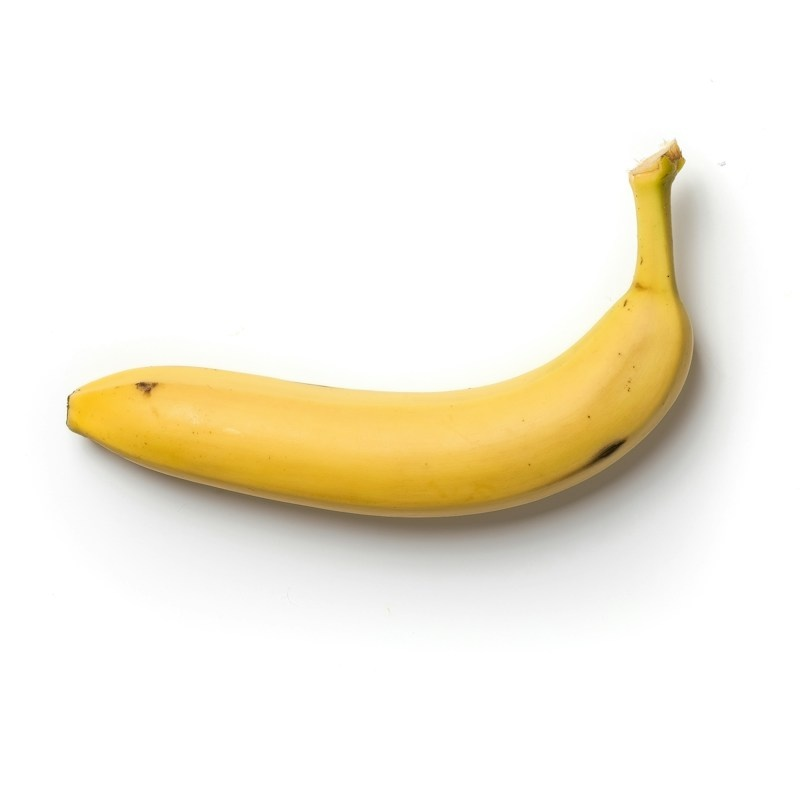banana peel: (34, 137, 694, 519)
